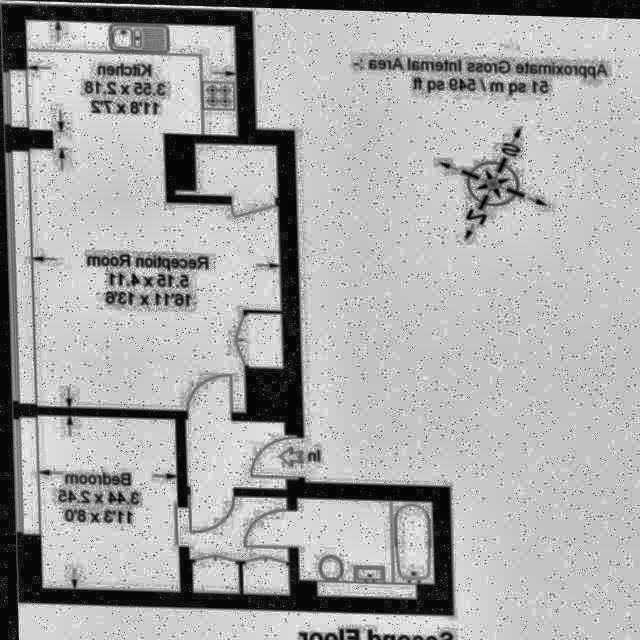room: (29, 127, 282, 417), (34, 411, 177, 595), (22, 20, 240, 135), (292, 496, 432, 597), (184, 492, 287, 596), (180, 418, 286, 488)
